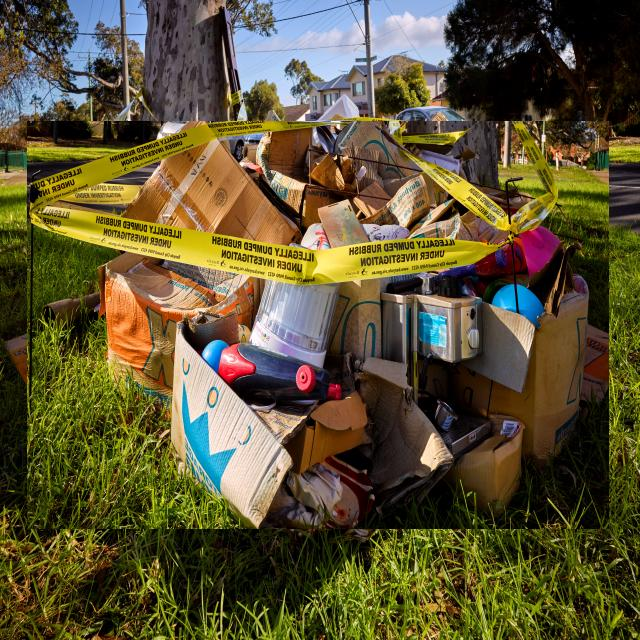dumping: (27, 121, 609, 529)
